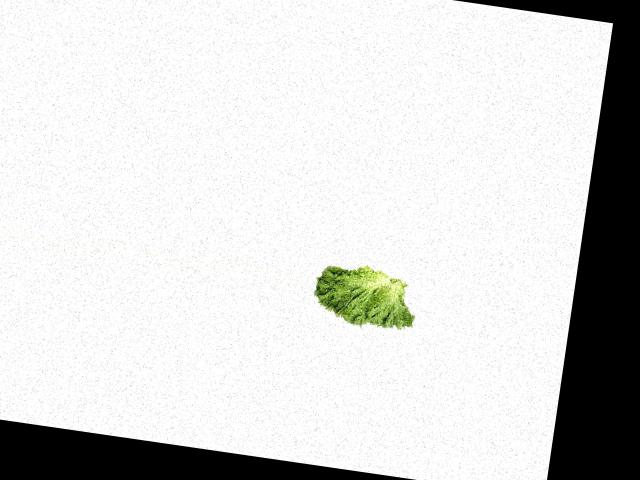lettuce: (308, 255, 420, 341)
